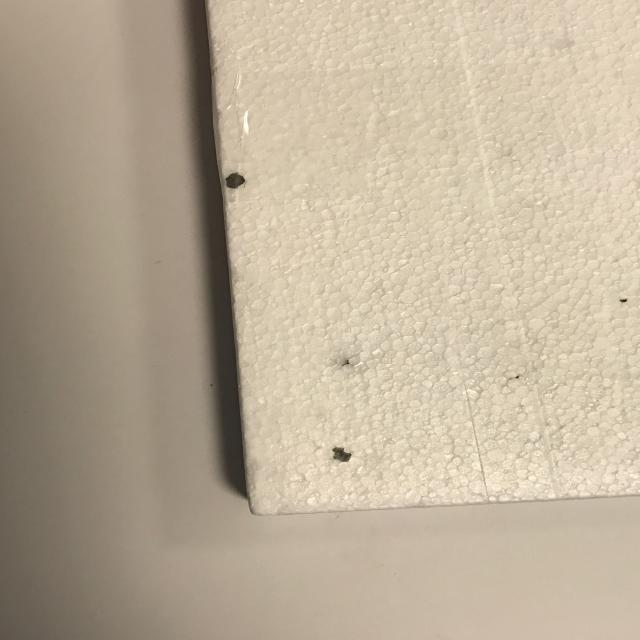Trash: (203, 0, 640, 516)
